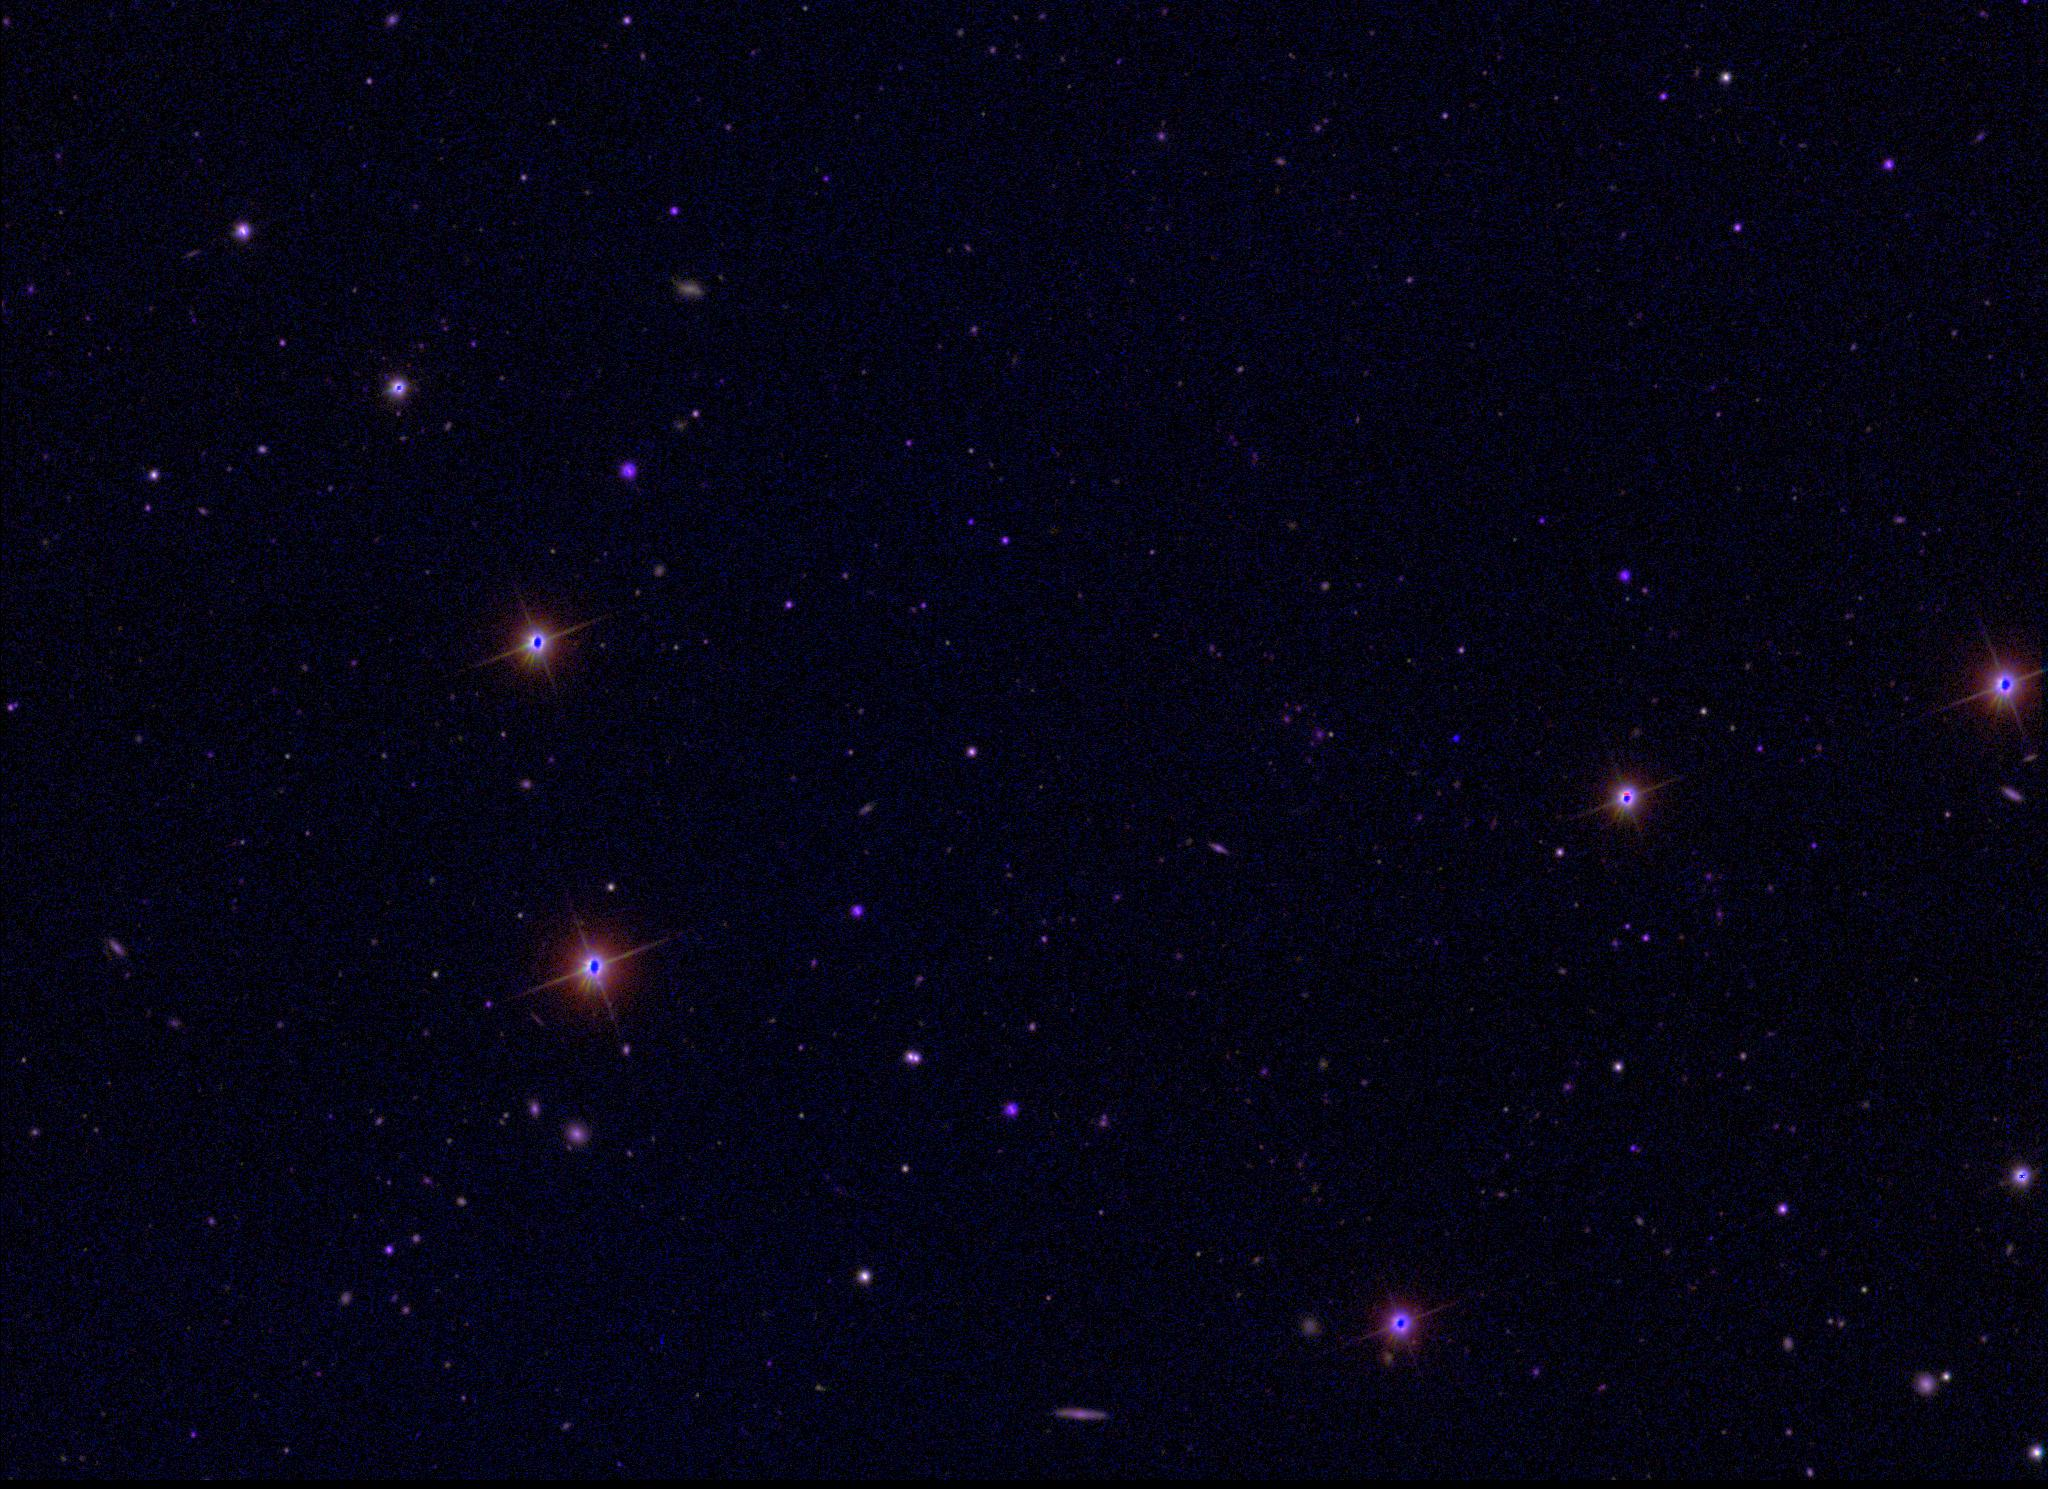L: (1452, 732, 1464, 746)
